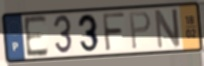3: (77, 12, 102, 55), (52, 13, 74, 57)
E: (22, 14, 50, 60)
F: (101, 11, 127, 53)
N: (153, 7, 182, 51)
P: (128, 10, 153, 52)
